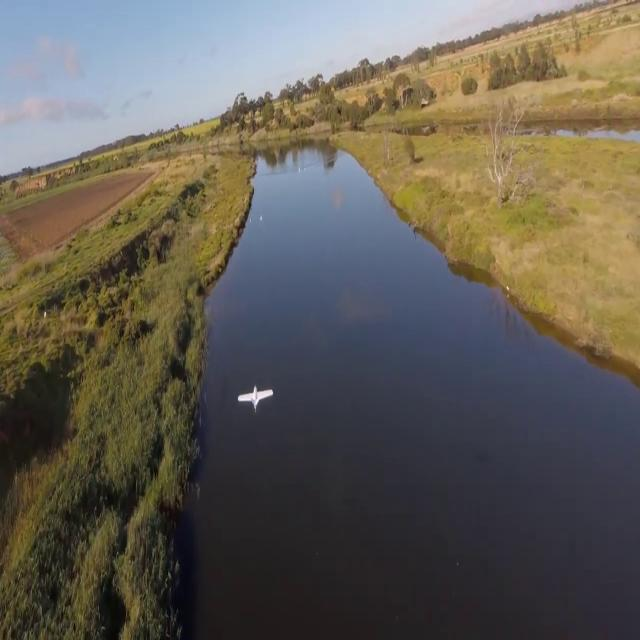iha: (234, 385, 276, 413)
